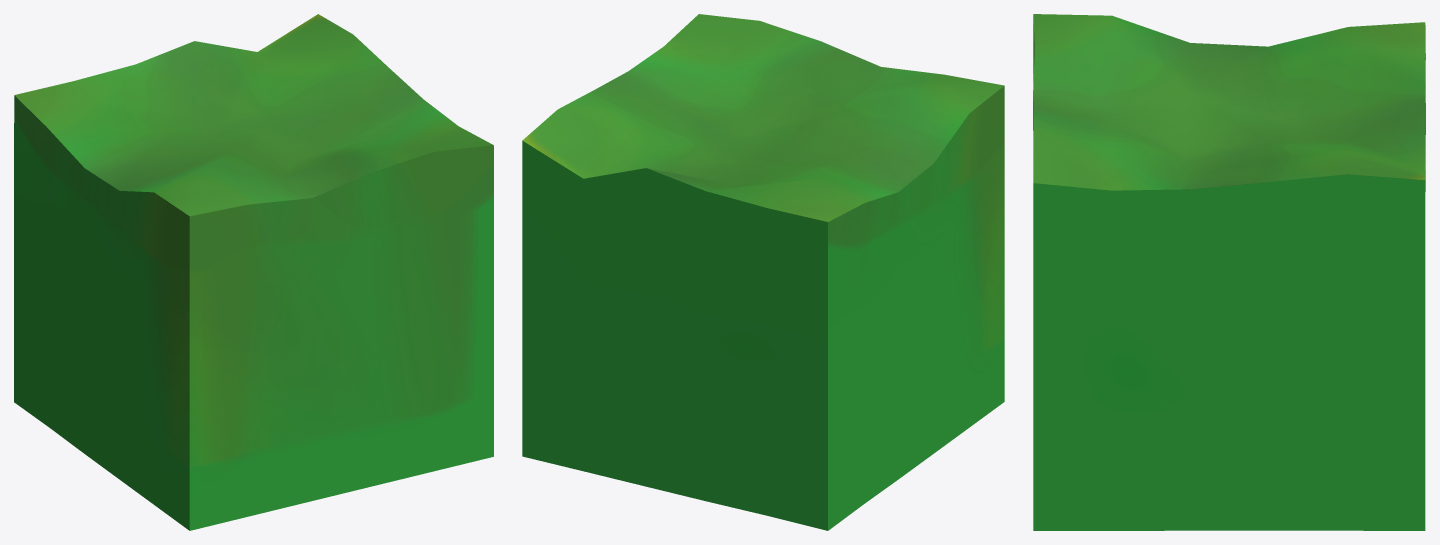
File: Cell.glb
The picture shows the model from 3 angles, left to right: view 1: azimuth 30°, elevation 25°; view 2: azimuth 150°, elevation 25°; view 3: azimuth 270°, elevation 25°; orthographic projection. The views are drawn at different scales.
Parts seen in each view (by area): view 1: Cube.002; view 2: Cube.002; view 3: Cube.002.
Part boxes in pixels (<box>): Cube.002: <box>14,14,493,530</box>; Cube.002: <box>522,14,1004,530</box>; Cube.002: <box>1033,14,1425,530</box>.
Size of the model in its own units: 32.26 by 32.43 by 32.07.
Materials: 1 (1 with a texture image).
